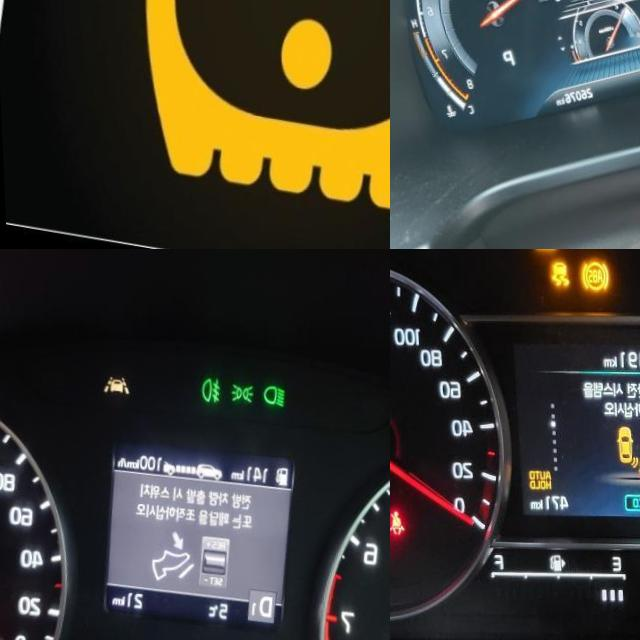FrontFogLight: (199, 374, 221, 404)
LaneCenteringOff: (101, 372, 131, 396)
Low beam: (261, 383, 287, 409)
SideLamp: (228, 380, 254, 404)
